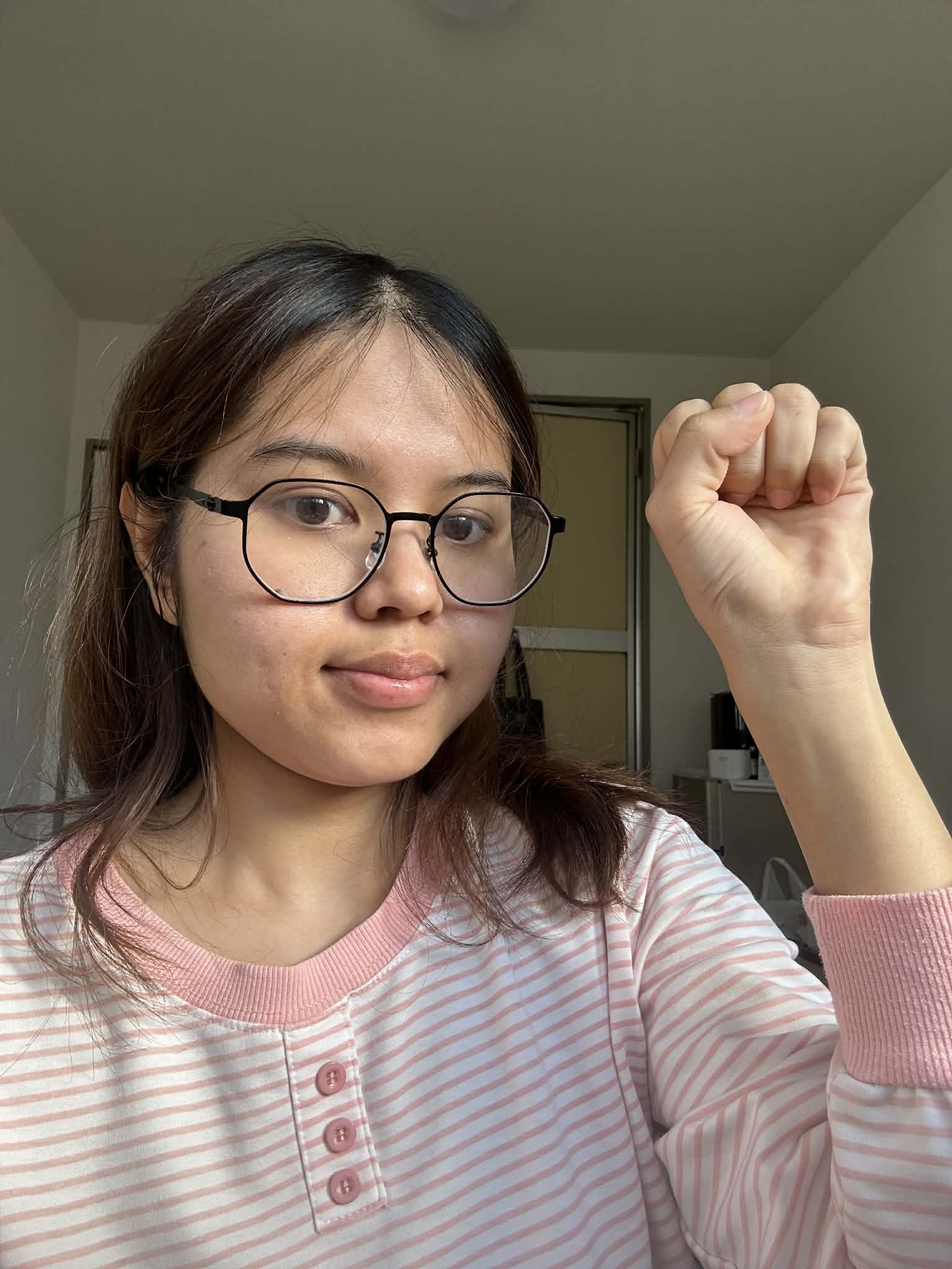right_closed_palm: (673, 398, 837, 628)
